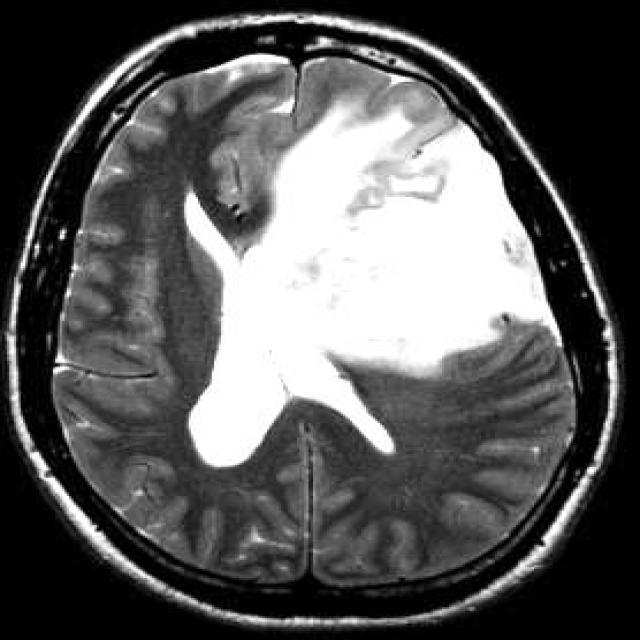brain tumor: (244, 102, 553, 376)
